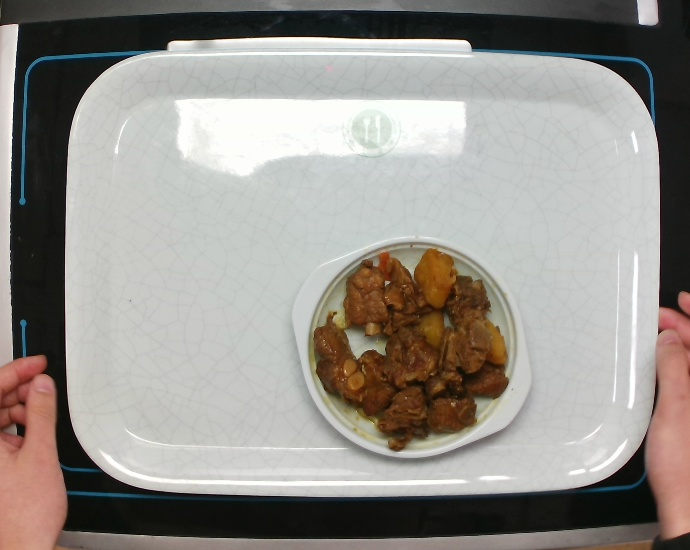JYsf-Shuang_Er_Pan: (288, 228, 538, 458)
